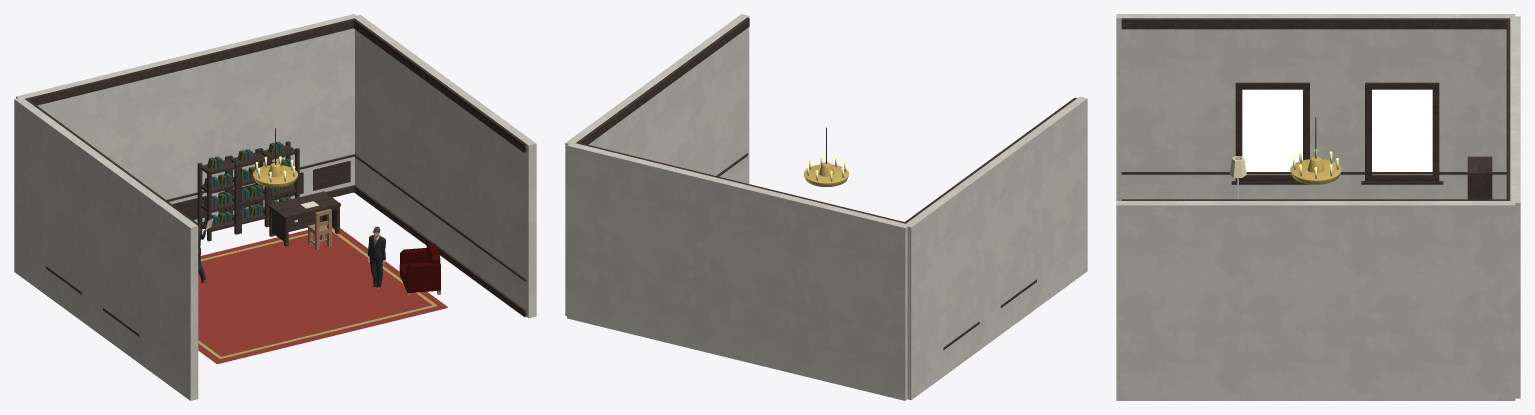
Rendered from hofburg.glb.
3 views of the same model, side by side, from view 1: azimuth 30°, elevation 25°; view 2: azimuth 150°, elevation 25°; view 3: azimuth 270°, elevation 25° (orthographic). The views are drawn at different scales.
Parts seen in each view (by area): view 1: wall_left, wall_back, wall_right, box.036, box.006, box.034, desk(Clone).001, box.008, bookcaseOpen(Clone).001, loungeChair(Clone).001, box.002, bookcaseOpen(Clone).002 (+8 smaller); view 2: wall_back, wall_left, wall_right, box.008, box.006, cyl.001, box.007; view 3: wall_right, wall_left, pane, pane.001, box.007, wall_back, bookcaseClosedDoors(Clone).001, box.006, box.004, cyl.001, box.008, box.018 (+8 smaller).
Boxes of the visible parts, x1,y1,x2,y2 form: wall_left: (14,97,198,400); wall_back: (16,14,358,222); wall_right: (354,14,536,318); box.036: (198,232,432,356); box.006: (25,18,354,105); box.034: (198,227,447,363); desk(Clone).001: (268,191,340,246); box.008: (353,18,526,152); bookcaseOpen(Clone).001: (197,156,238,241); loungeChair(Clone).001: (399,243,440,296); box.002: (354,185,526,316); bookcaseOpen(Clone).002: (228,148,269,233); wall_back: (567,142,909,400); wall_left: (905,96,1087,400); wall_right: (565,14,749,315); box.008: (576,17,749,144); box.006: (576,143,905,223); cyl.001: (804,164,848,186); box.007: (904,97,1076,223); wall_right: (1116,201,1515,400); wall_left: (1116,14,1515,200); pane: (1372,89,1432,174); pane.001: (1242,89,1302,174); box.007: (1121,18,1509,29); wall_back: (1510,16,1520,398); bookcaseClosedDoors(Clone).001: (1467,156,1492,199); box.006: (1506,18,1510,200); box.004: (1121,172,1506,174); cyl.001: (1290,159,1341,184); box.008: (1121,199,1509,200); box.018: (1432,89,1439,175).
Size of what is drawn, in the model's own units: 10.49 by 5.04 by 9.36.
42 materials, 25 textured.
